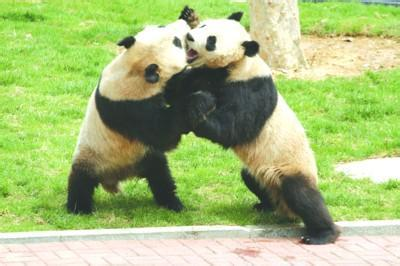panda: (181, 9, 337, 245), (65, 20, 185, 222)
